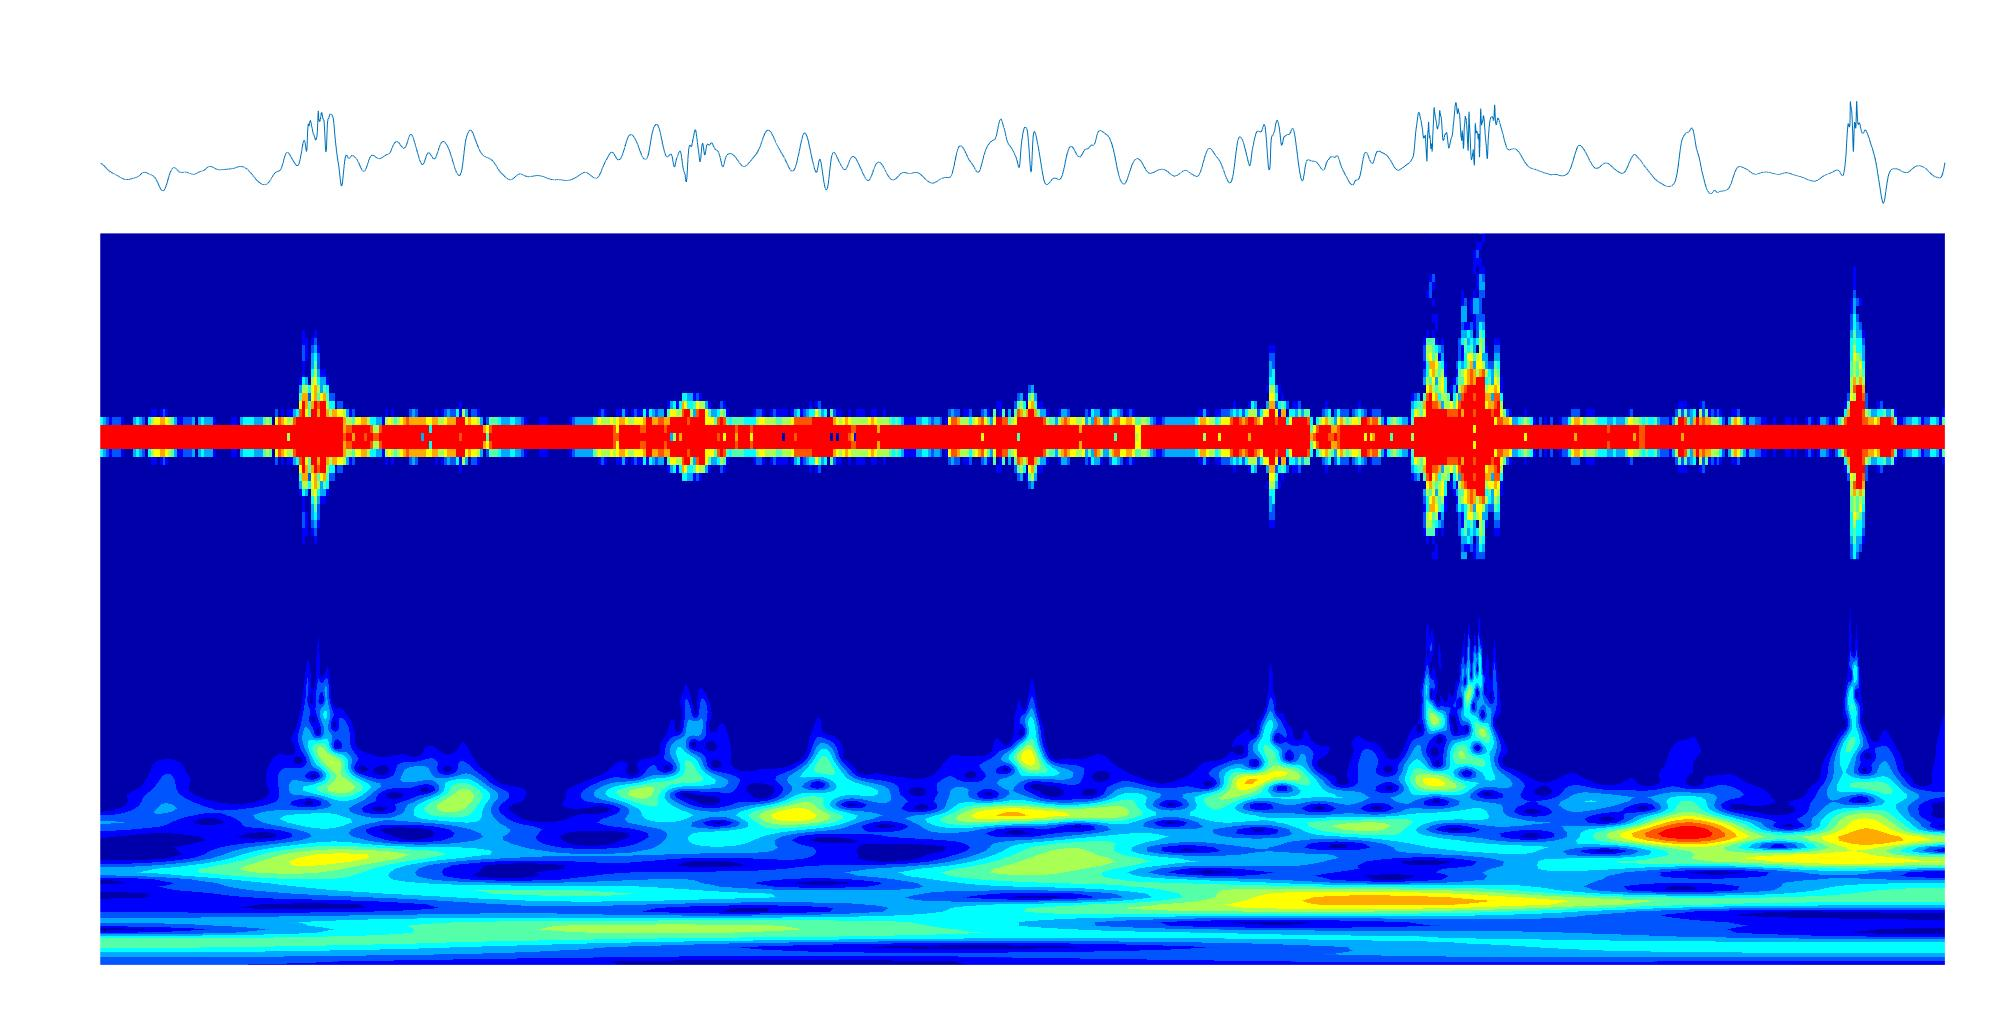TURBULENT: (1414, 238, 1504, 962), (1841, 233, 1874, 965)
